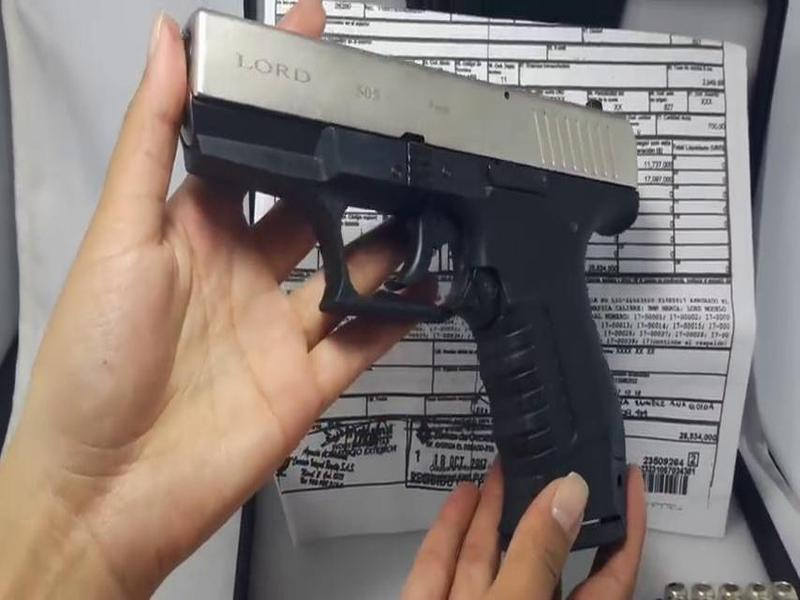Pistola: (158, 4, 662, 546)
